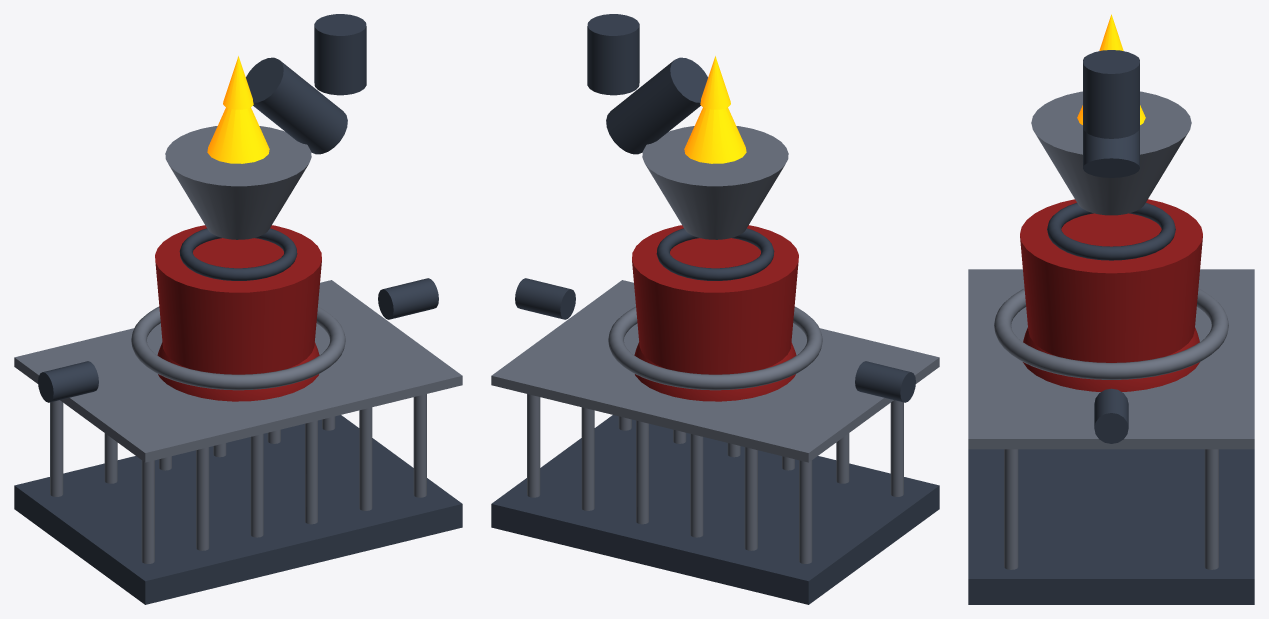
Rendered from converter.glb.
3 renders of one model, left to right at view 1: azimuth 30°, elevation 25°; view 2: azimuth 150°, elevation 25°; view 3: azimuth 270°, elevation 25°, orthographic. The views are drawn at different scales.
Size of the model in its own units: 17 by 19.75 by 10.
